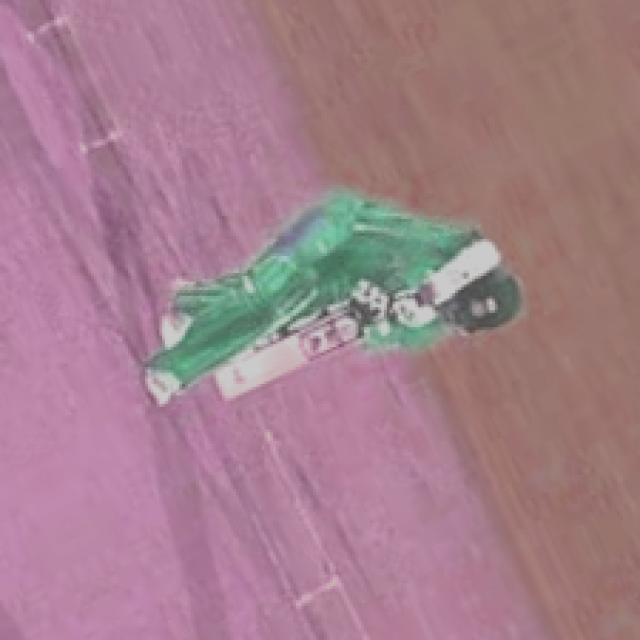bat: (219, 309, 364, 402)
toe: (211, 364, 227, 410)
